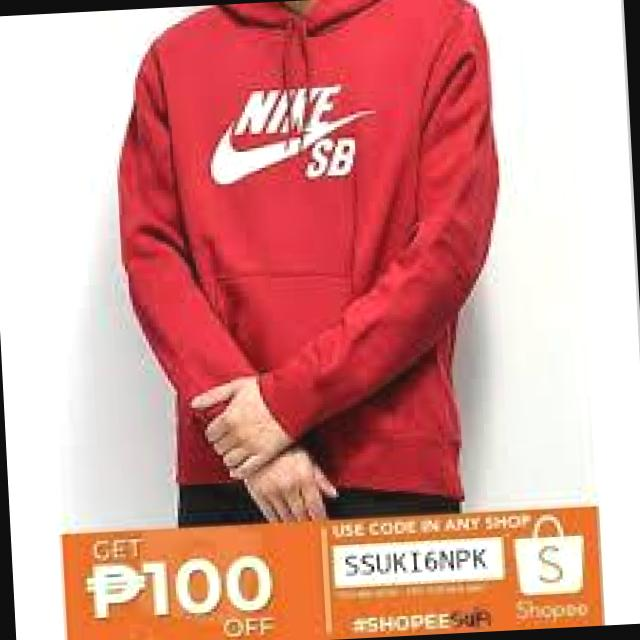sweater: (96, 0, 527, 531)
